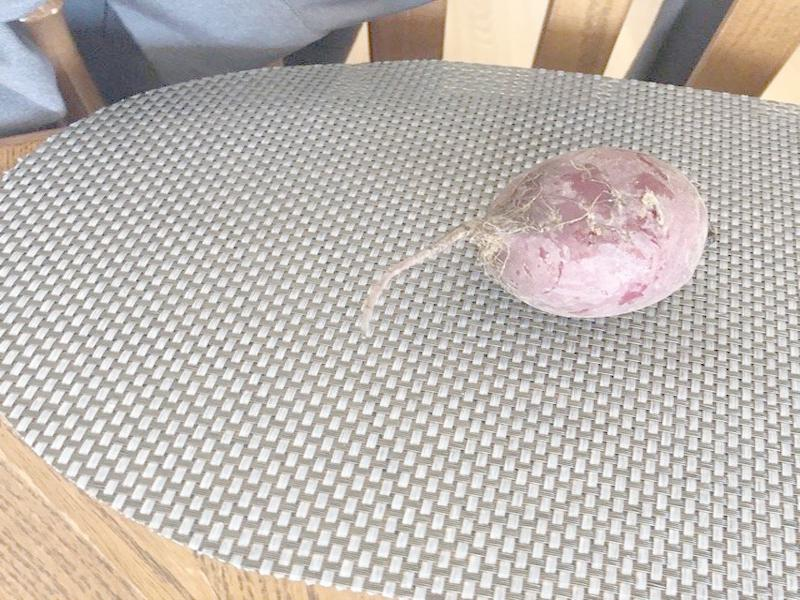Beet: (359, 145, 704, 337)
